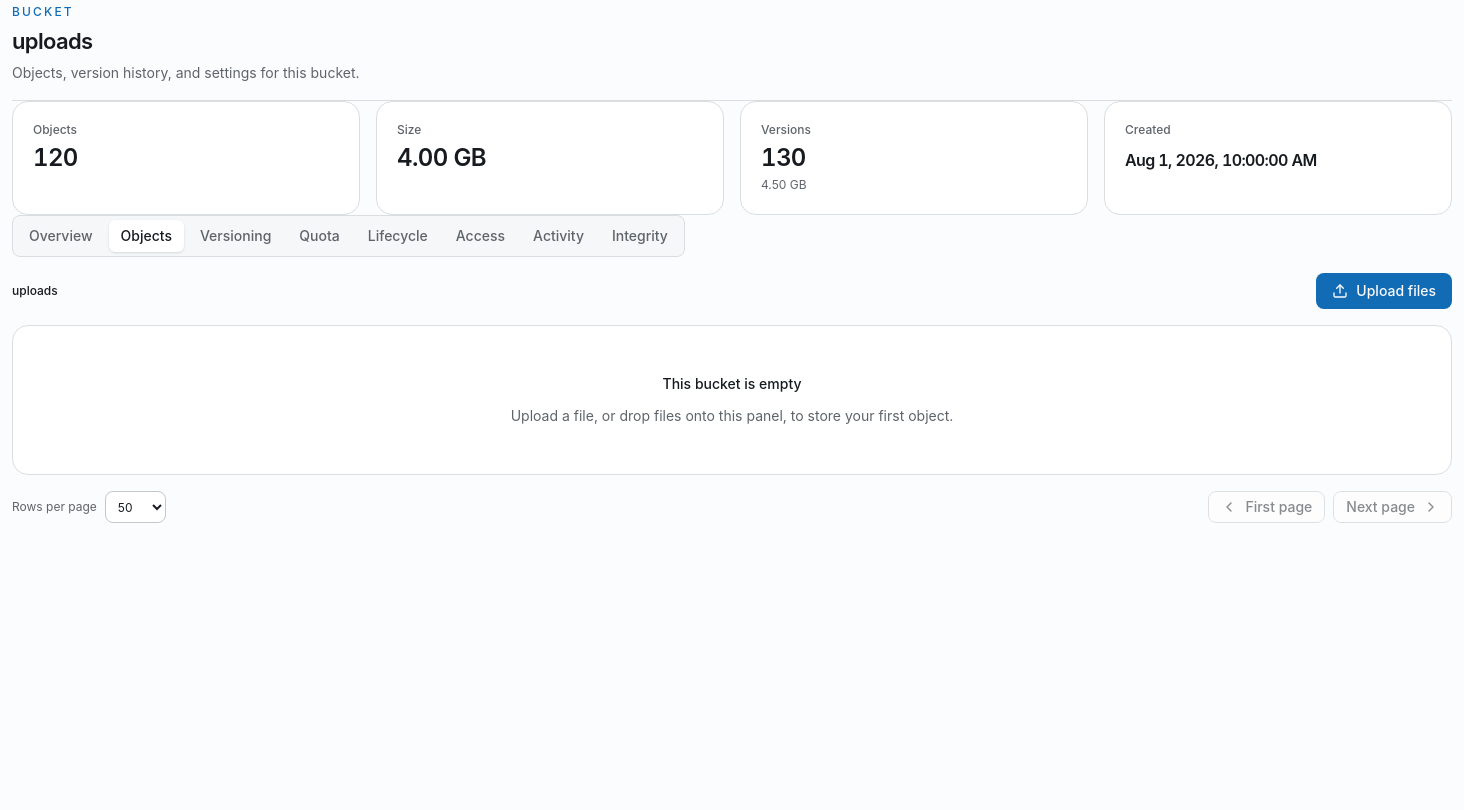
Test: BucketDetail tabs › shows configuration and accounting on the overview tab
Note: Objects is the landing tab, so Overview is reached deliberately.
Click the tab "Overview". click: point(61, 236)
box: [17, 220, 104, 252]
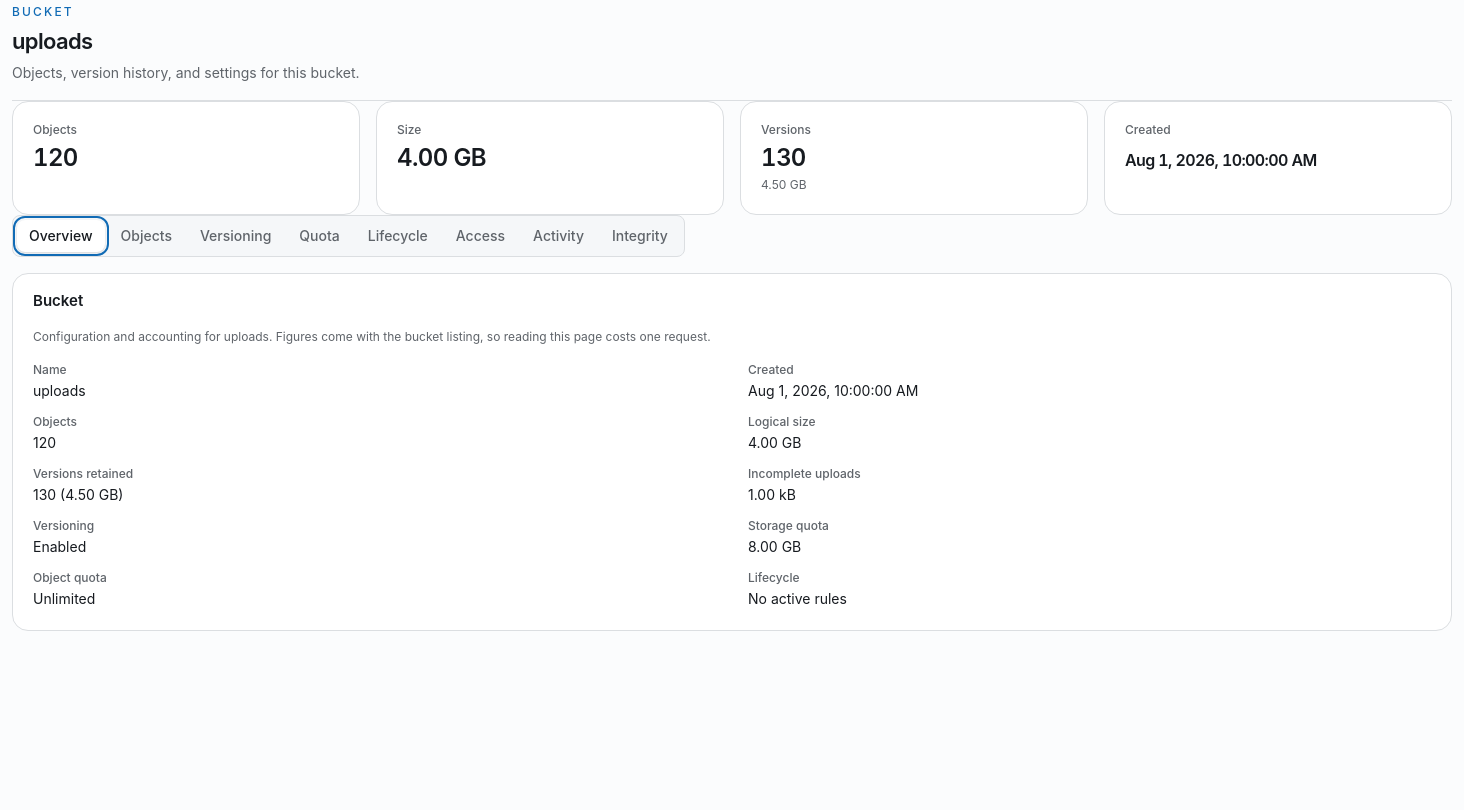
expect the text "8.00 GB" is shown: met, box [748, 538, 801, 555]
expect the text "Enabled" is shown: met, box [33, 538, 86, 555]
expect the text "Unlimited" is shown: met, box [33, 590, 95, 607]
